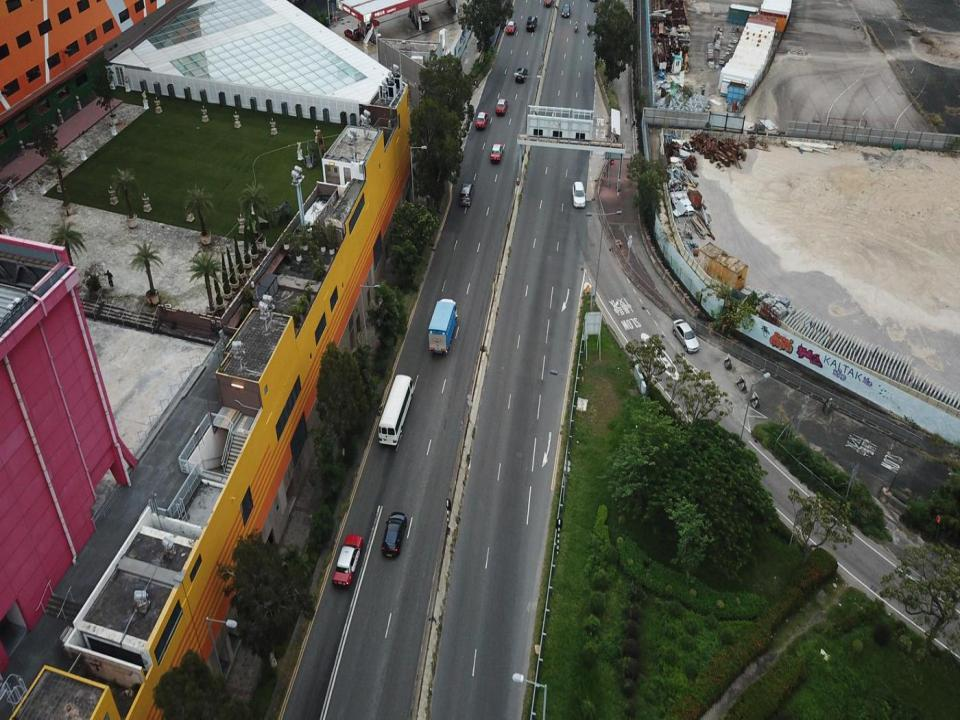bus: (376, 372, 413, 452)
car: (328, 532, 364, 588), (379, 509, 406, 558), (671, 316, 701, 353), (571, 180, 586, 207), (458, 179, 473, 206), (489, 141, 503, 165), (524, 15, 540, 32), (474, 109, 487, 129), (514, 68, 528, 85), (497, 97, 507, 115), (560, 3, 571, 19), (506, 20, 516, 33)
van: (428, 296, 457, 356)
